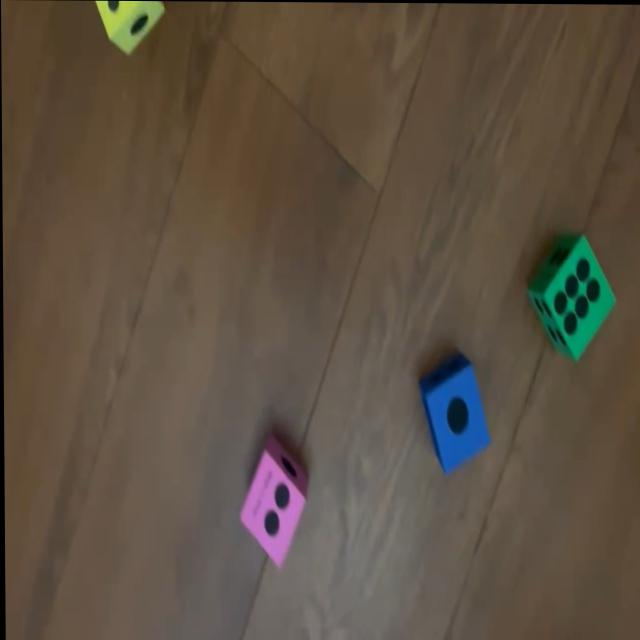blue_block: (417, 354, 489, 475)
